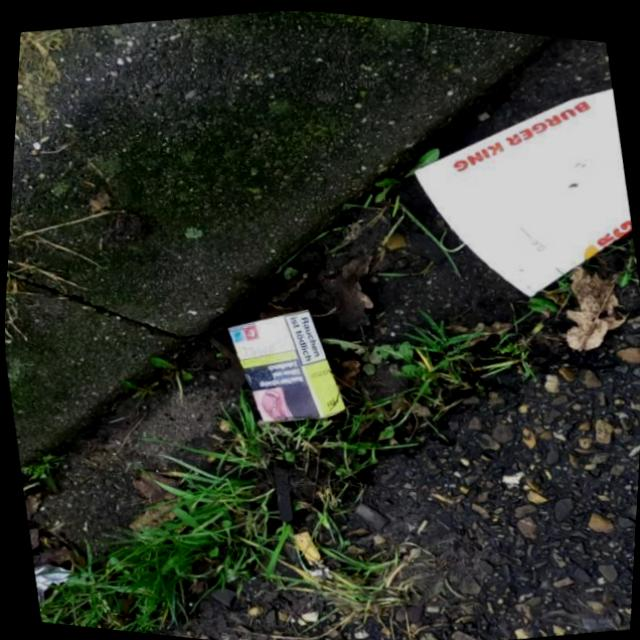Cup: (402, 63, 640, 308)
Paper: (217, 292, 355, 435)
